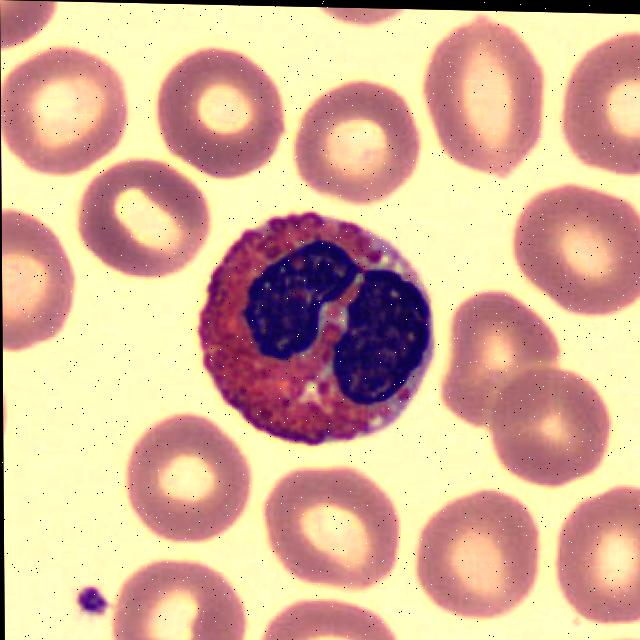eosinophil: (194, 204, 438, 460)
rbc: (427, 15, 546, 176), (512, 176, 640, 321), (261, 466, 401, 594), (158, 46, 289, 181), (445, 284, 563, 431), (414, 481, 538, 620), (126, 415, 250, 549), (79, 161, 217, 279), (294, 74, 421, 202), (6, 46, 128, 176), (490, 365, 612, 491), (559, 24, 640, 172), (110, 560, 255, 640), (2, 206, 79, 355), (562, 481, 640, 623), (262, 594, 405, 640), (311, 7, 416, 37), (0, 0, 61, 51), (584, 633, 640, 640)
